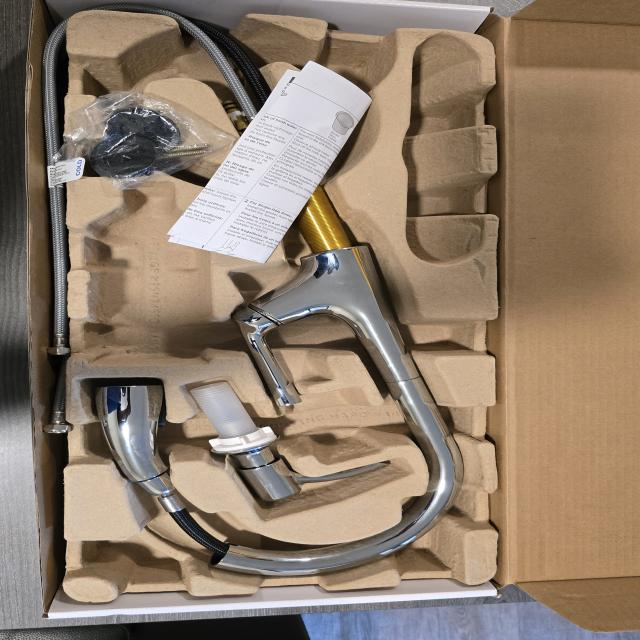1o: (95, 11, 466, 575)
2: (189, 382, 391, 503)
3m: (87, 179, 207, 366)
4m: (403, 33, 484, 262)
5m: (312, 49, 388, 101)
6m: (78, 41, 185, 113)
7: (52, 87, 242, 191)
8: (164, 60, 376, 265)
